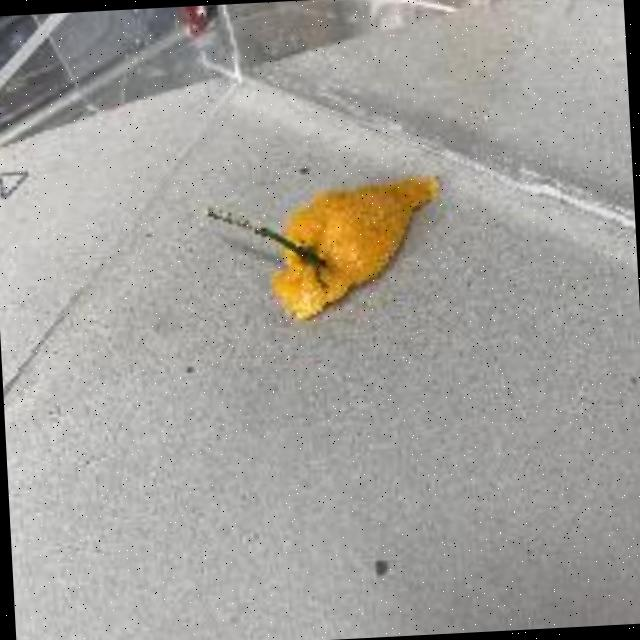orange-peel: (261, 168, 447, 324)
